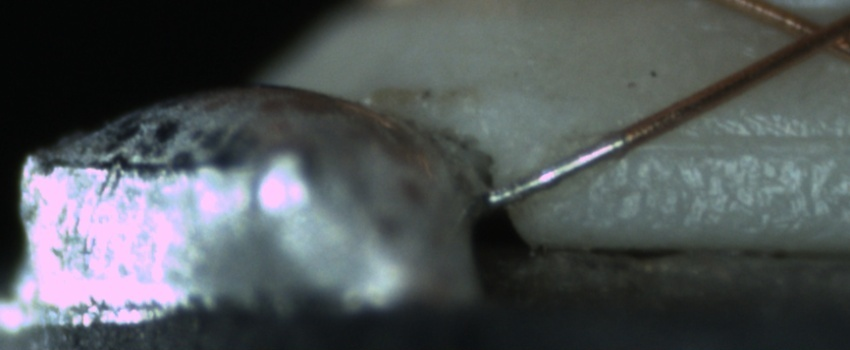CL: (771, 3, 849, 64)
DL: (639, 108, 850, 172)
TS: (474, 132, 627, 211)
